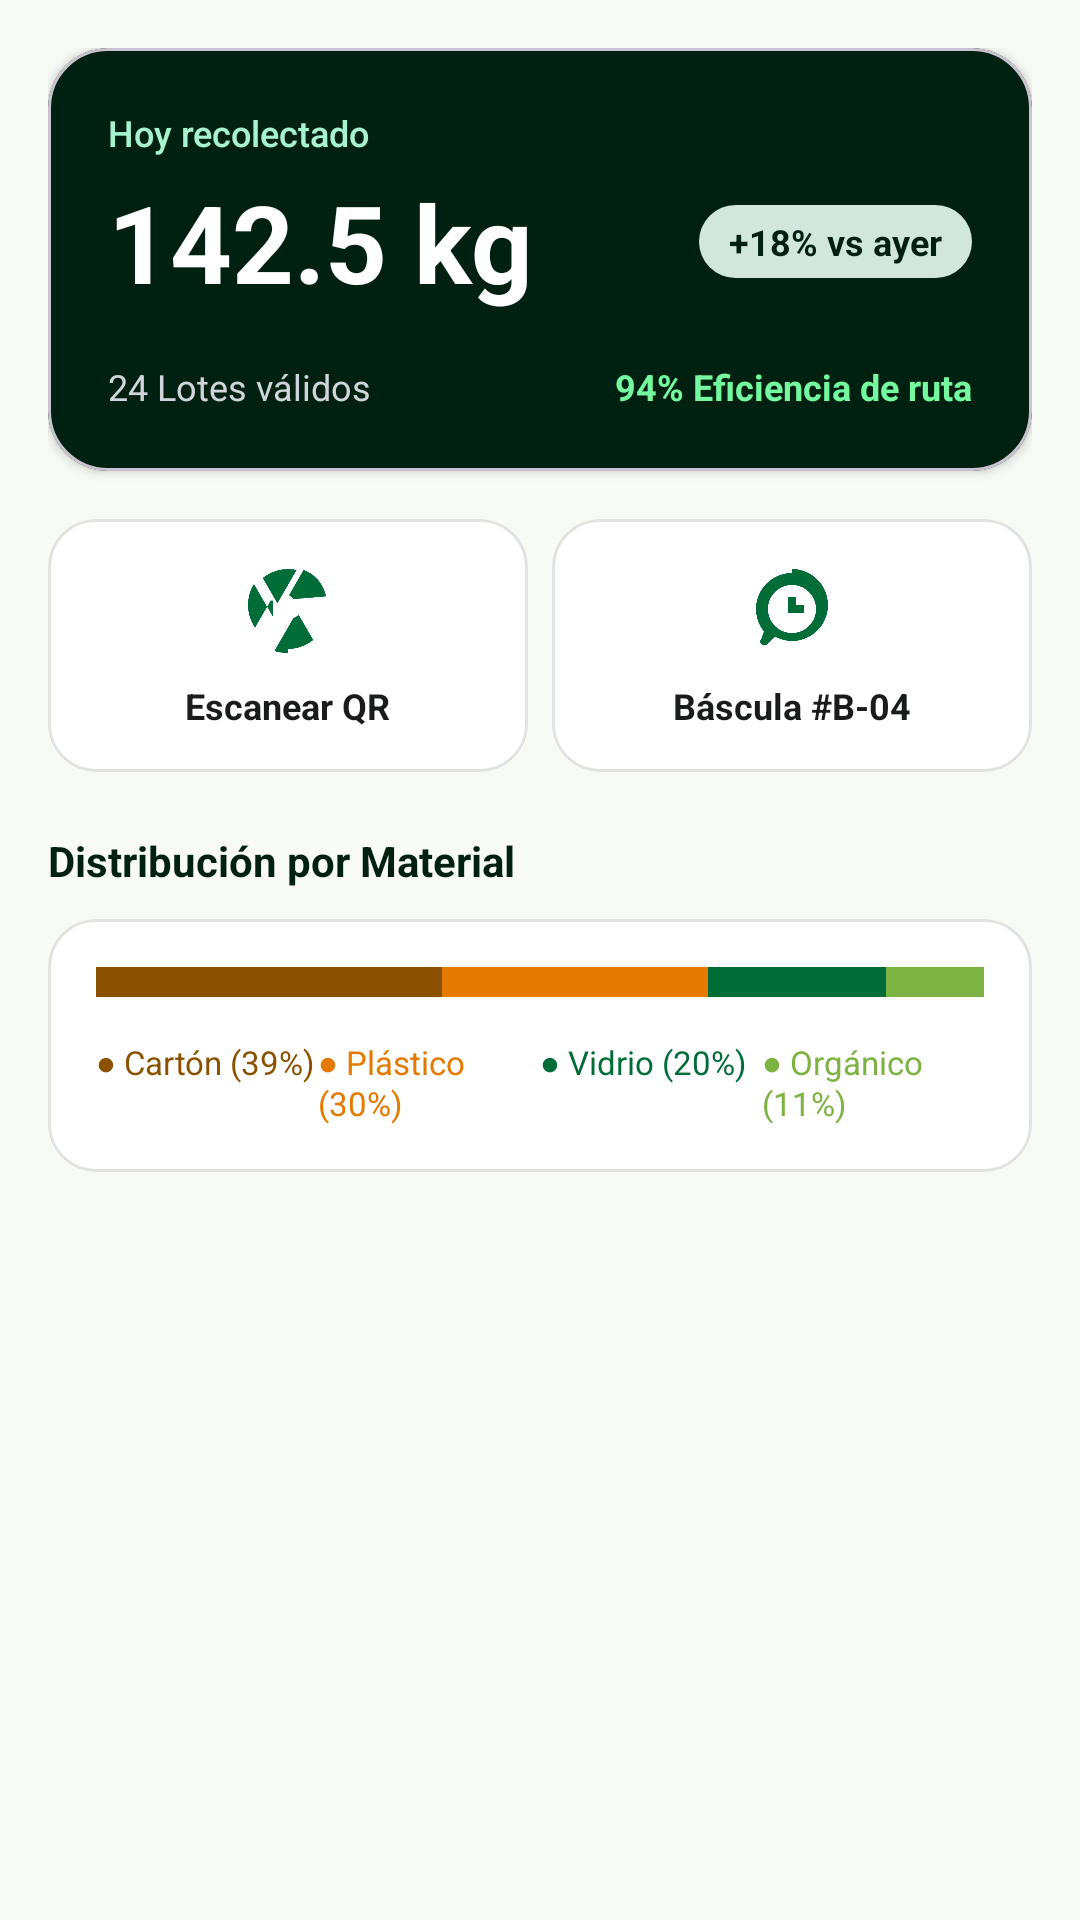

Screen size 1080×1920. Icon name, then its center in pixels as (x,y):
camera scan: (287,611)
